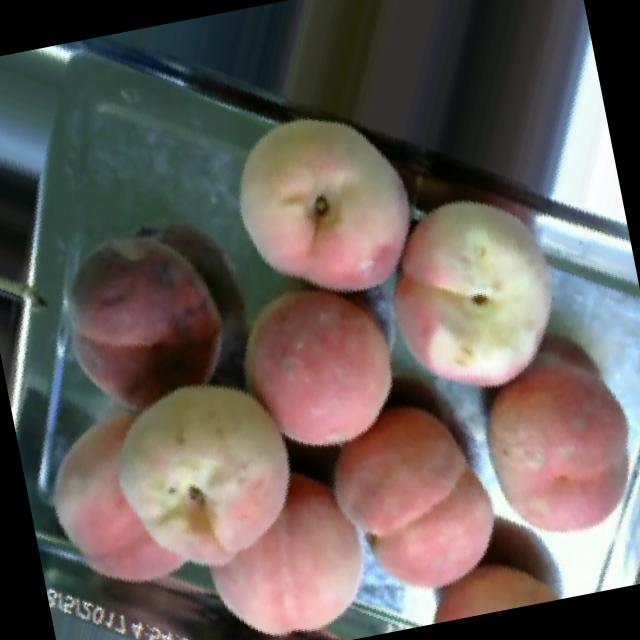Fruit: (7, 332, 332, 624), (188, 75, 456, 348), (352, 160, 602, 427), (18, 186, 270, 447), (191, 242, 433, 486), (320, 368, 524, 630), (457, 308, 640, 570), (174, 456, 391, 640)
